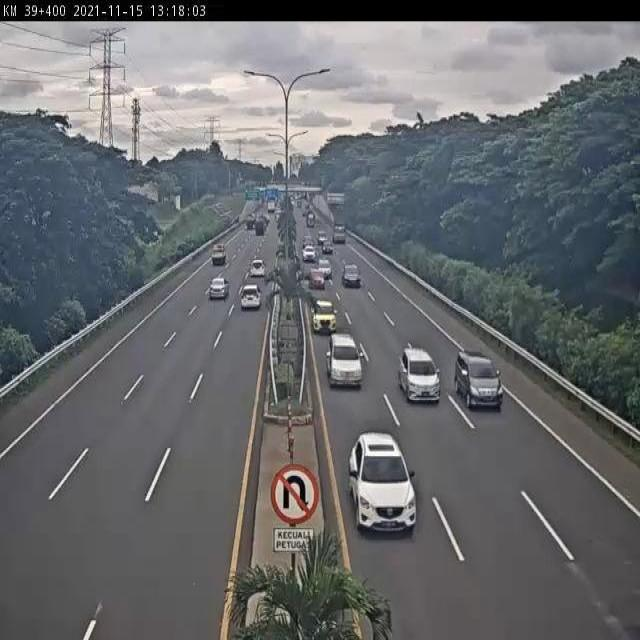Car: (347, 433, 421, 537), (455, 349, 505, 410), (398, 342, 442, 403), (325, 332, 363, 388), (311, 301, 337, 334), (240, 283, 262, 310), (208, 276, 230, 301), (342, 264, 362, 288), (211, 243, 227, 265), (317, 258, 332, 279), (250, 259, 266, 278), (302, 245, 316, 263)
